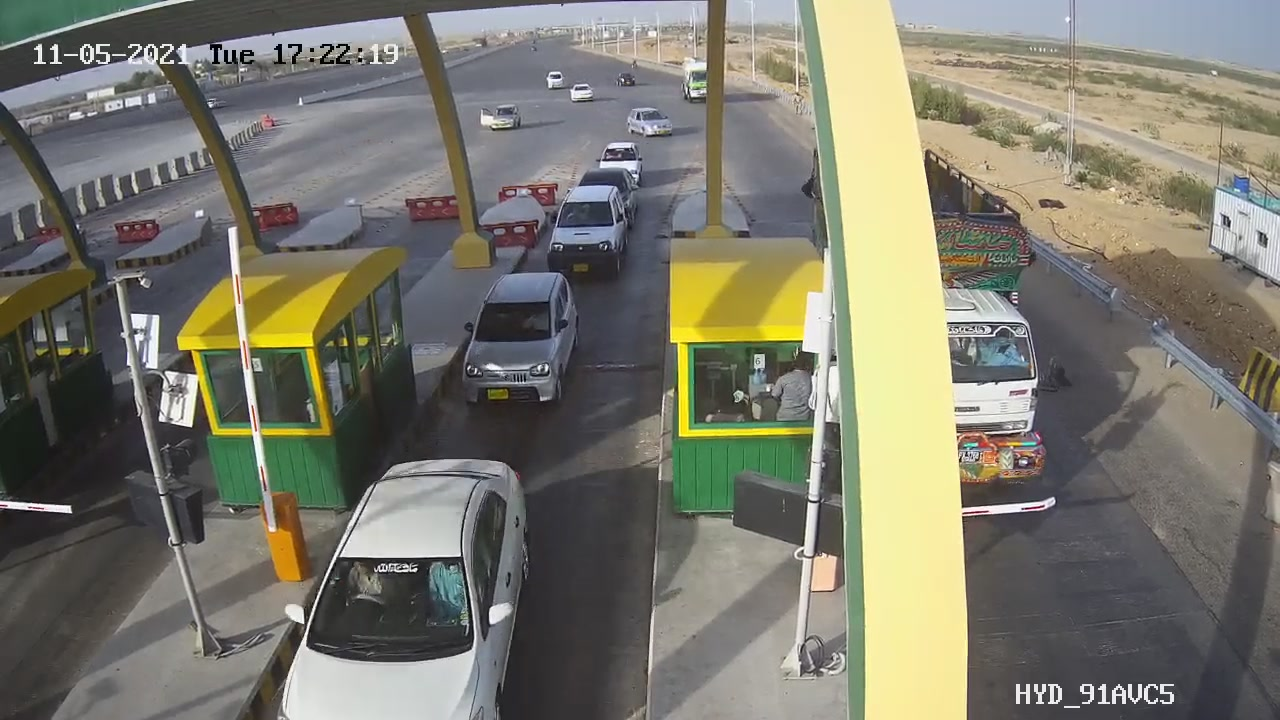F1: (450, 260, 592, 427), (542, 177, 642, 285)
